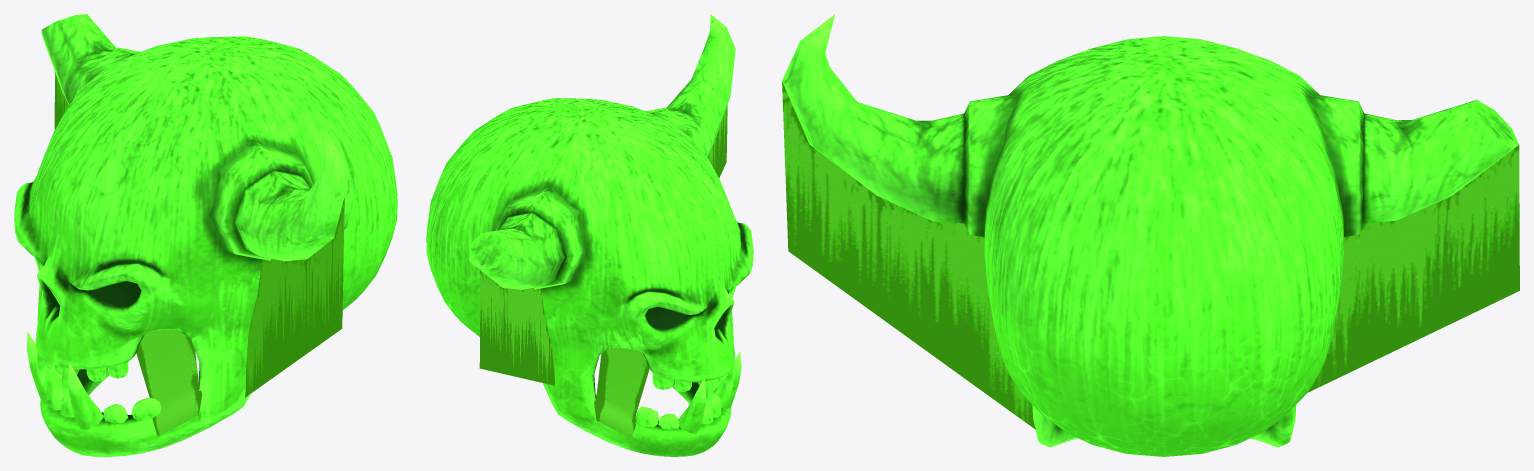
File: Skull.fbx
3 views of the same model, side by side, from view 1: azimuth 30°, elevation 25°; view 2: azimuth 150°, elevation 25°; view 3: azimuth 270°, elevation 25° (orthographic). The views are drawn at different scales.
Parts seen in each view (by area): view 1: Orc_Skull_Basin2_Skull_Basin_0; view 2: Orc_Skull_Basin2_Skull_Basin_0; view 3: Orc_Skull_Basin2_Skull_Basin_0.
Boxes of the visible parts, bbox=[...] form: Orc_Skull_Basin2_Skull_Basin_0: bbox=[14, 14, 397, 456]; Orc_Skull_Basin2_Skull_Basin_0: bbox=[426, 14, 753, 456]; Orc_Skull_Basin2_Skull_Basin_0: bbox=[782, 14, 1519, 456].
Size of the model in its own units: 106 by 115 by 157.
